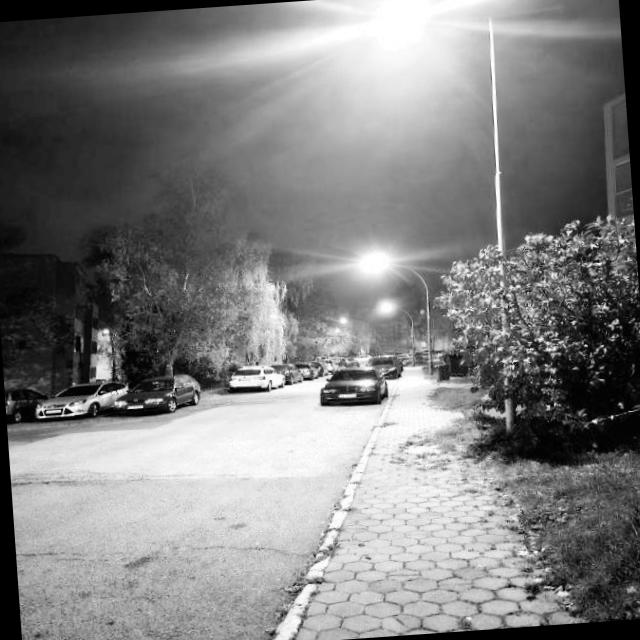Light: (385, 0, 522, 439), (366, 253, 436, 379), (381, 301, 417, 368)
Tree: (491, 203, 640, 450)
